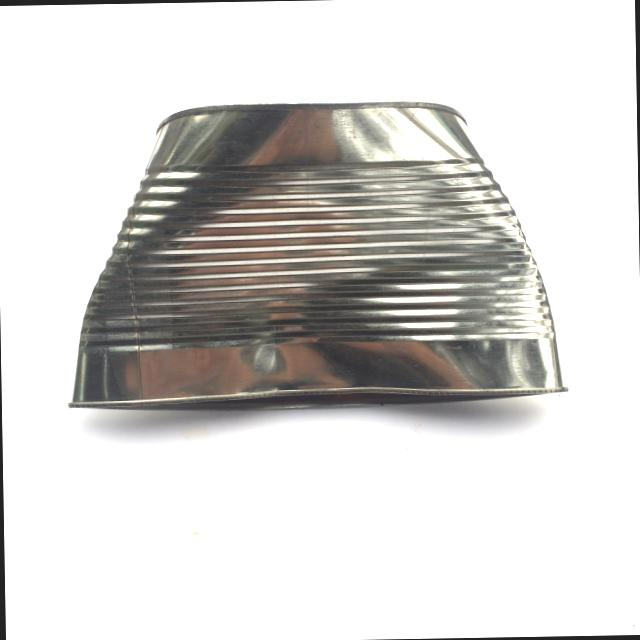Metal: (59, 86, 578, 423)
